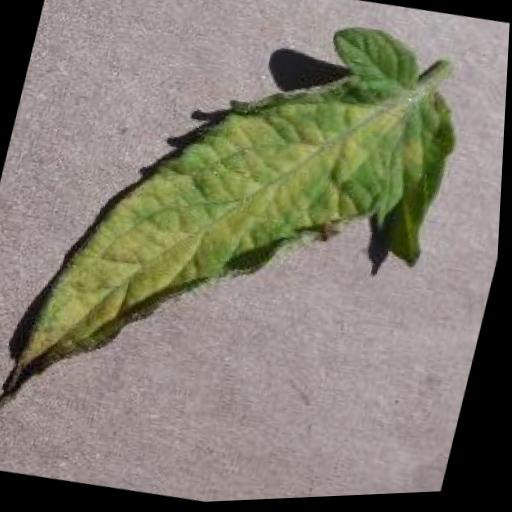Leaf Mold: (0, 0, 479, 465)
